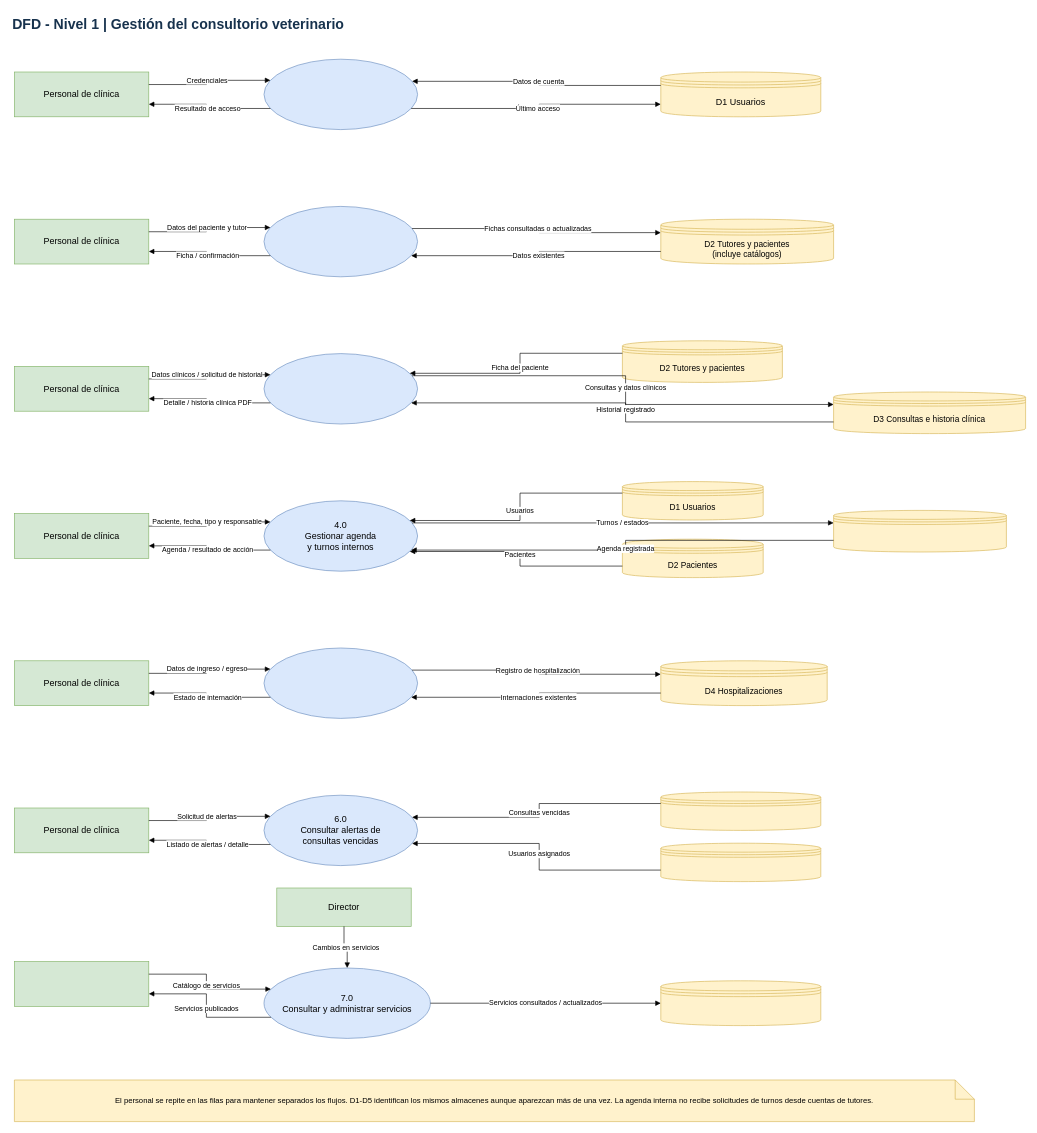
Image size: 1037x1133. Some labels were removed from this diagram. The centre of each missing label's shape, as x and y in pixels:
"1.0 Autenticar usuario" goes at pixel 340 94.
"2.0 Gestionar pacientes y tutores" goes at pixel 340 241.
"3.0 Gestionar consultas e historia clínica" goes at pixel 340 388.
"5.0 Gestionar hospitalizaciones" goes at pixel 340 682.
"D1 Usuarios asociados" goes at pixel 740 862.
"D3 CONSULTA (turnos)" goes at pixel 919 531.
"D3 Consultas" goes at pixel 740 810.
"D5 Servicios" goes at pixel 740 1003.
"Visitante público" goes at pixel 81 983.
